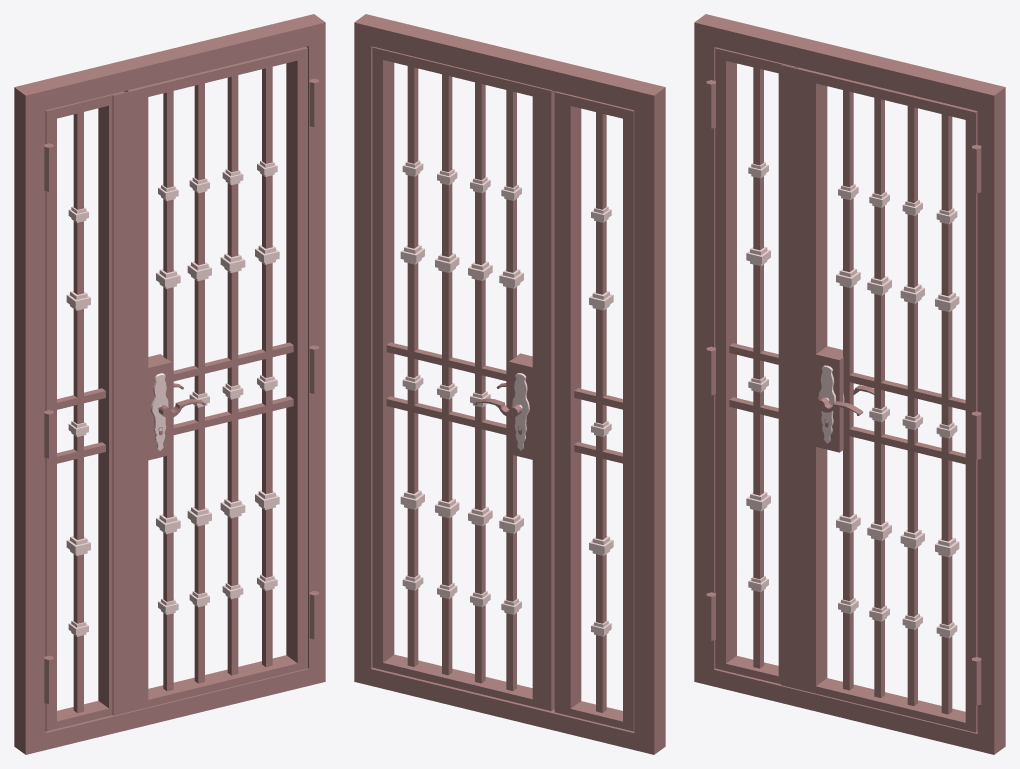
Rendered from metal_gate_v1.fbx.
The picture shows the model from 3 angles, left to right: view 1: azimuth 30°, elevation 25°; view 2: azimuth 150°, elevation 25°; view 3: azimuth 330°, elevation 25°; orthographic projection.
Parts seen in each view (by area): view 1: right_door, door_frame, left_door; view 2: right_door, door_frame, left_door; view 3: right_door, door_frame, left_door, door_handle.
Part boxes in pixels (x1,y1,x2,y2): right_door: [112, 47, 307, 715]; door_frame: [14, 14, 325, 754]; left_door: [45, 91, 124, 731]; right_door: [372, 47, 555, 710]; door_frame: [354, 14, 665, 754]; left_door: [554, 91, 634, 731]; right_door: [781, 64, 977, 732]; door_frame: [694, 14, 1005, 754]; left_door: [715, 47, 798, 684]; door_handle: [816, 385, 874, 415].
Size of the model in its own units: 0.0885 by 0.1859 by 0.0133.
